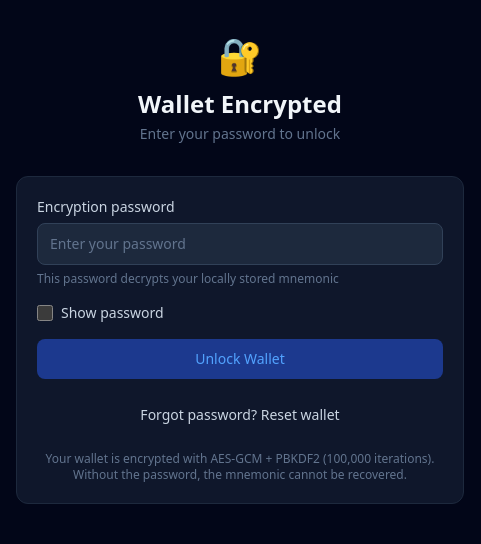
Scenario: UnlockPage › TC_UNLOCK_003 shows an error for an incorrect password
Step 1. Type "wrong" into the password field with placeholder "Enter your password" → (240, 244), box [37, 223, 443, 265]
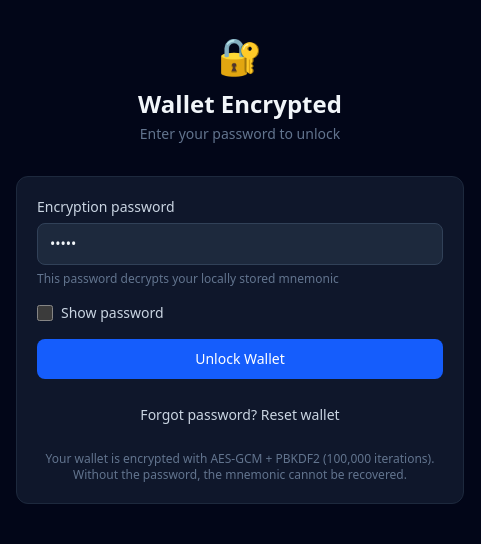
Step 2. Click the button "Unlock Wallet" → (240, 359), box [37, 339, 443, 379]
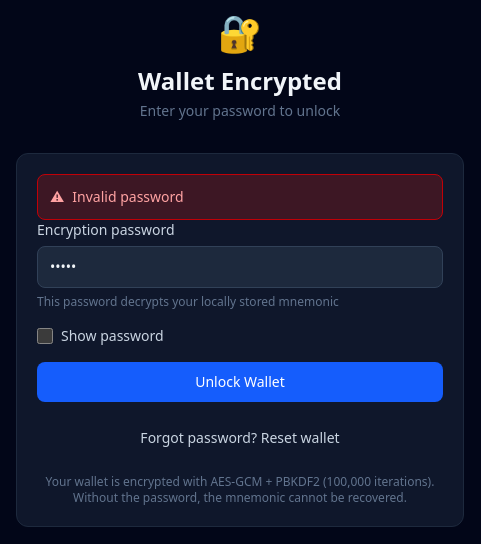
Now the text "Invalid password" is shown, box [72, 187, 184, 207]
